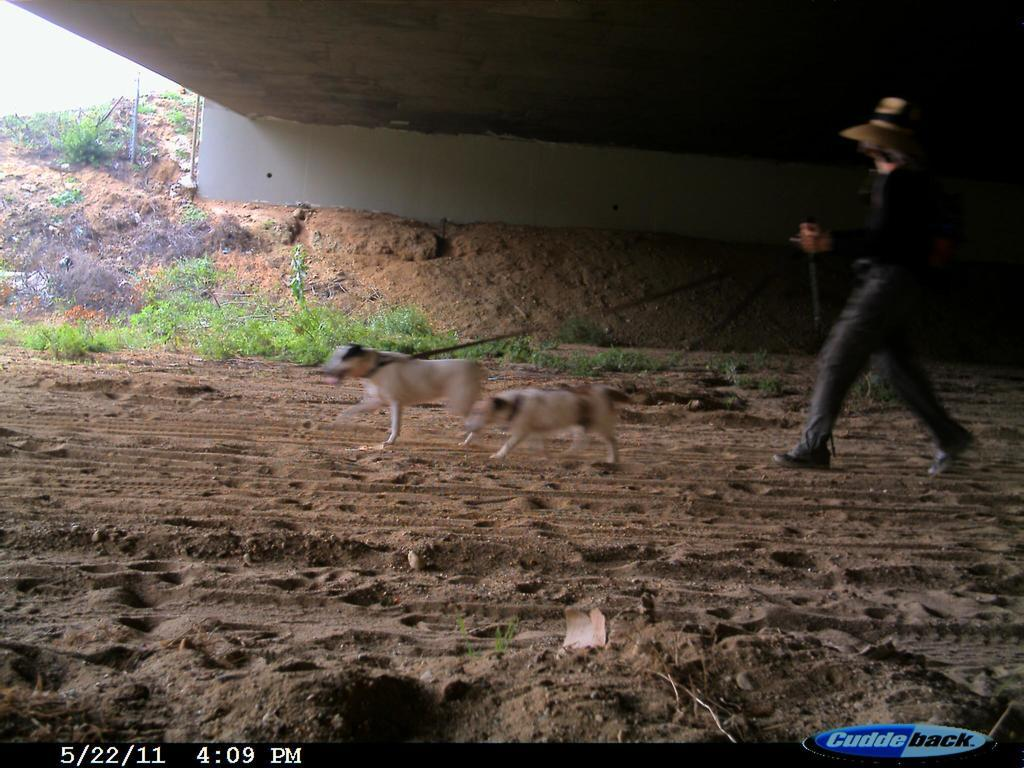dog: (315, 327, 500, 452), (469, 376, 637, 475)
